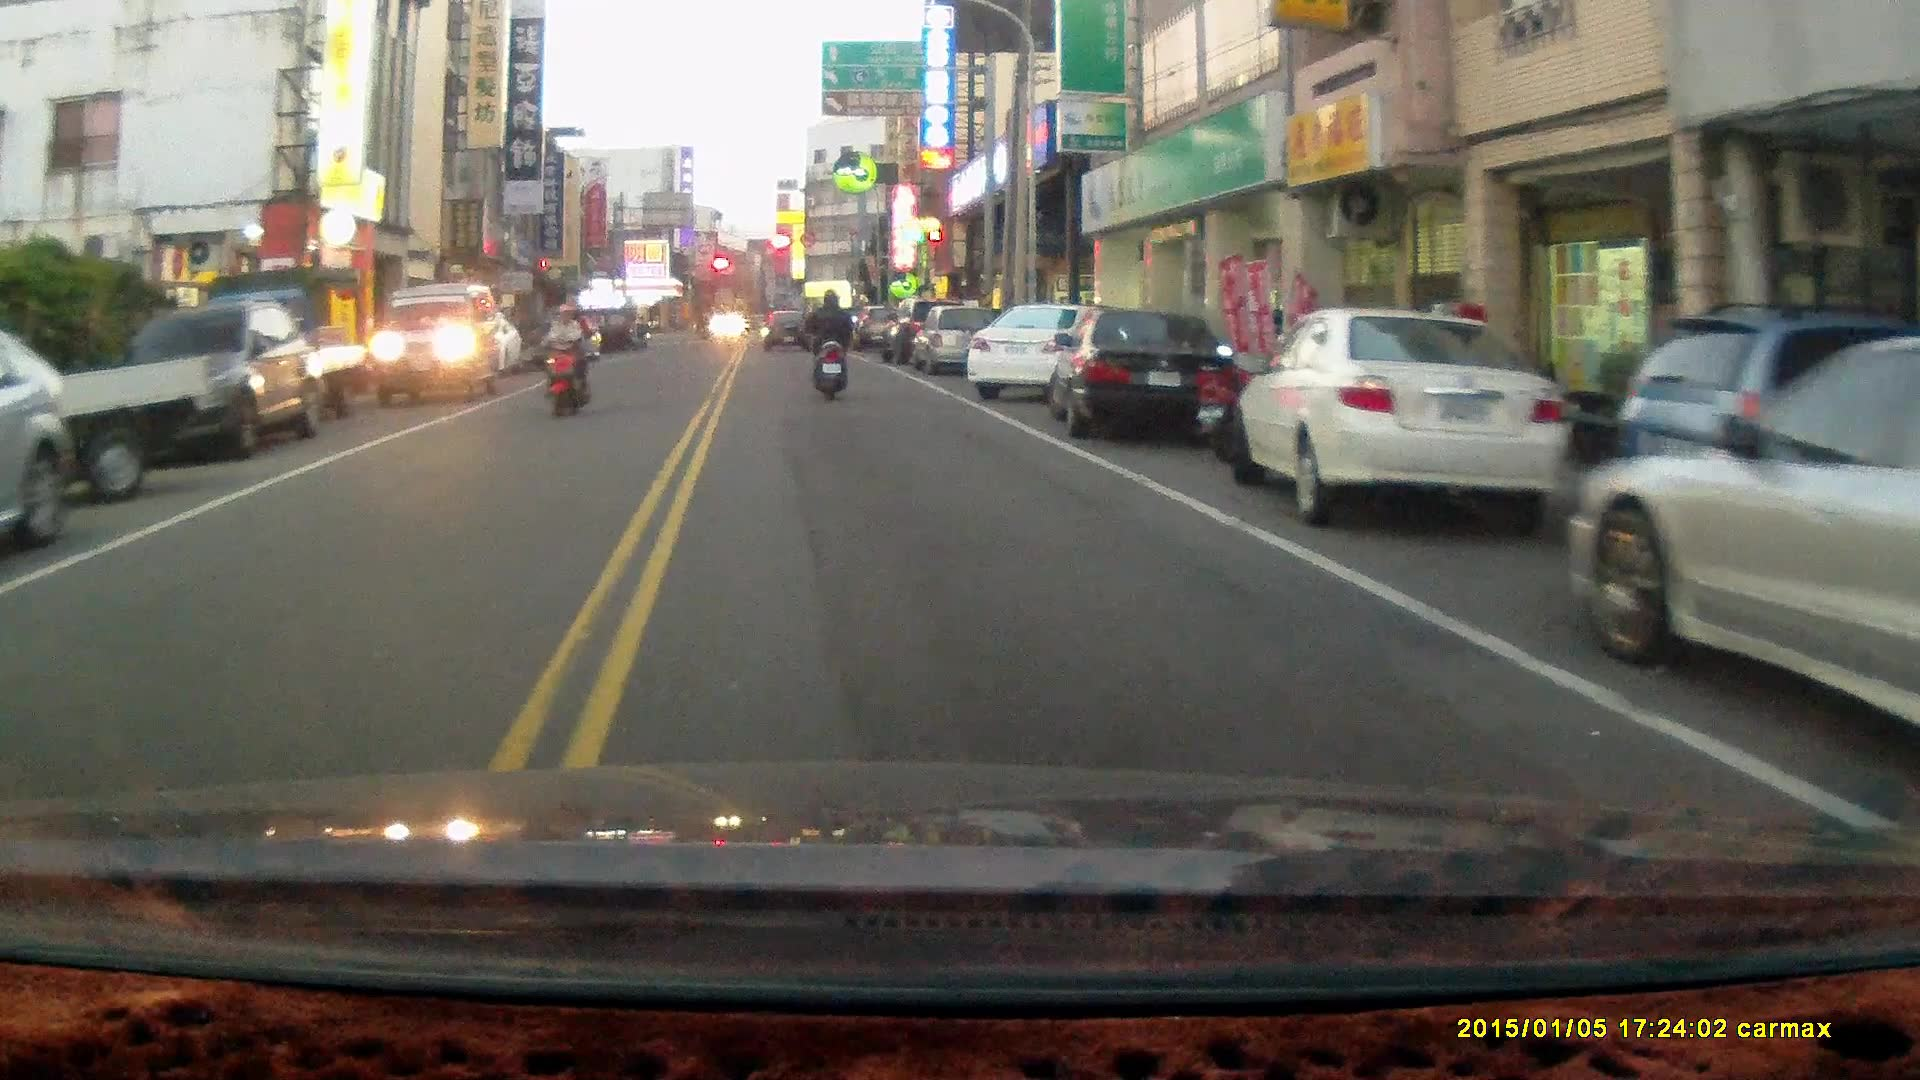rider: (547, 288, 598, 415), (805, 287, 851, 404)
vehicle: (1569, 341, 1920, 761), (1227, 305, 1565, 524), (114, 294, 324, 463), (183, 262, 375, 425), (1048, 304, 1237, 444), (966, 300, 1146, 403), (1, 320, 75, 560), (373, 282, 510, 409), (910, 301, 1013, 378)
